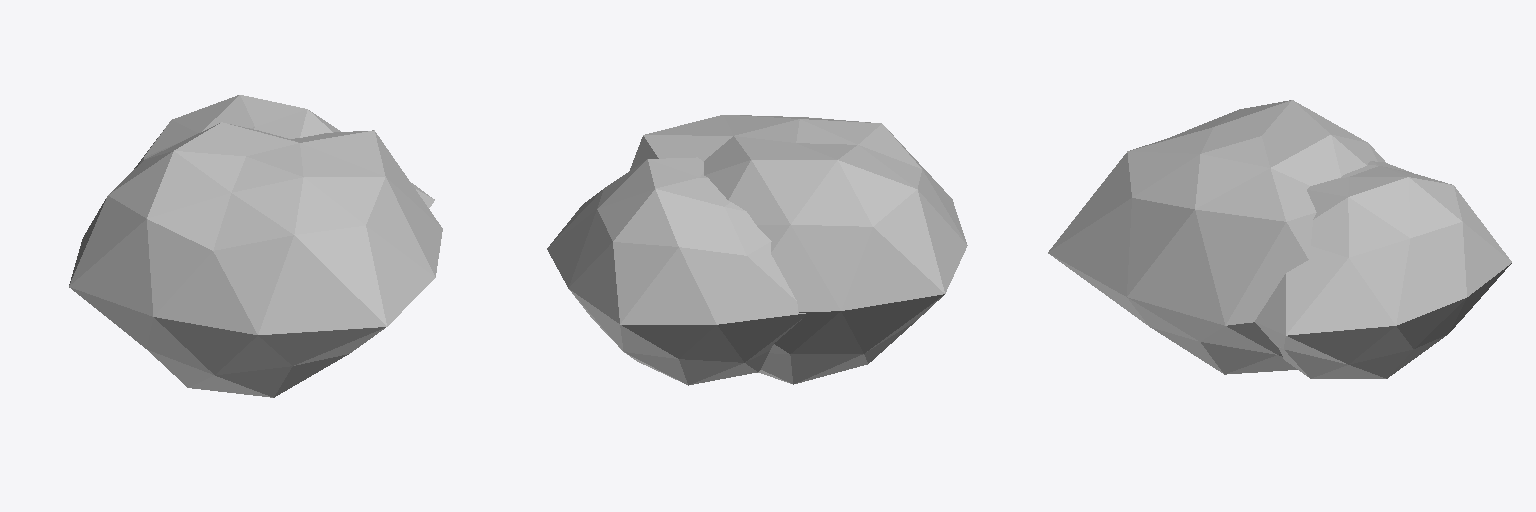
3 views of the same model, side by side, from view 1: azimuth 30°, elevation 25°; view 2: azimuth 150°, elevation 25°; view 3: azimuth 270°, elevation 25° (orthographic).
Parts seen in each view (by area): view 1: Icosphere.001_Icosphere.002, Icosphere_Icosphere.001; view 2: Icosphere.001_Icosphere.002, Icosphere_Icosphere.001; view 3: Icosphere.001_Icosphere.002, Icosphere_Icosphere.001.
Part boxes in pixels (x1,y1,x2,y2): Icosphere.001_Icosphere.002: (69, 122, 442, 397); Icosphere_Icosphere.001: (134, 95, 434, 207); Icosphere.001_Icosphere.002: (630, 115, 967, 384); Icosphere_Icosphere.001: (547, 157, 806, 385); Icosphere.001_Icosphere.002: (1048, 100, 1385, 374); Icosphere_Icosphere.001: (1255, 161, 1511, 378).
Bounding box in the file's own units: 3.4 × 2.12 × 3.76.
1 materials, 1 textured.